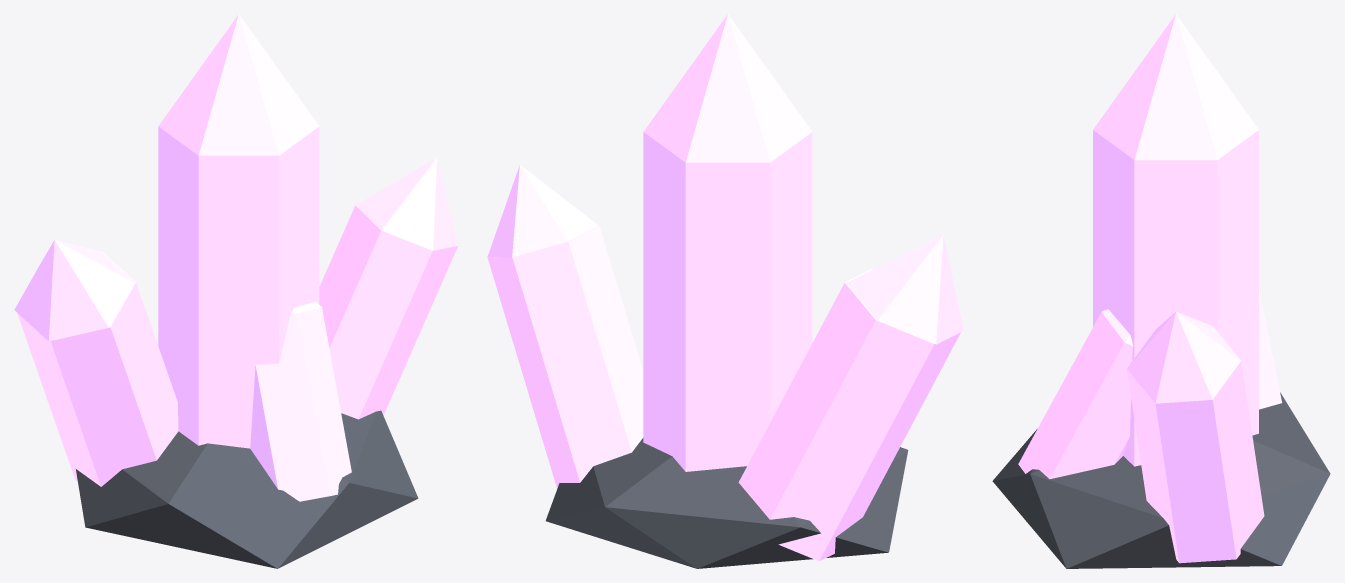
File: crystal.glb
The picture shows the model from 3 angles, left to right: view 1: azimuth 30°, elevation 25°; view 2: azimuth 150°, elevation 25°; view 3: azimuth 270°, elevation 25°; orthographic projection. The views are drawn at different scales.
Visible parts, largest first — view 1: crystal; view 2: crystal; view 3: crystal.
Boxes of the visible parts, left/top/right/bottom form: crystal: left=14, top=14, right=458, bottom=568; crystal: left=487, top=14, right=963, bottom=568; crystal: left=992, top=14, right=1330, bottom=568.
Size of the model in its own units: 1.58 by 1.79 by 1.06.
